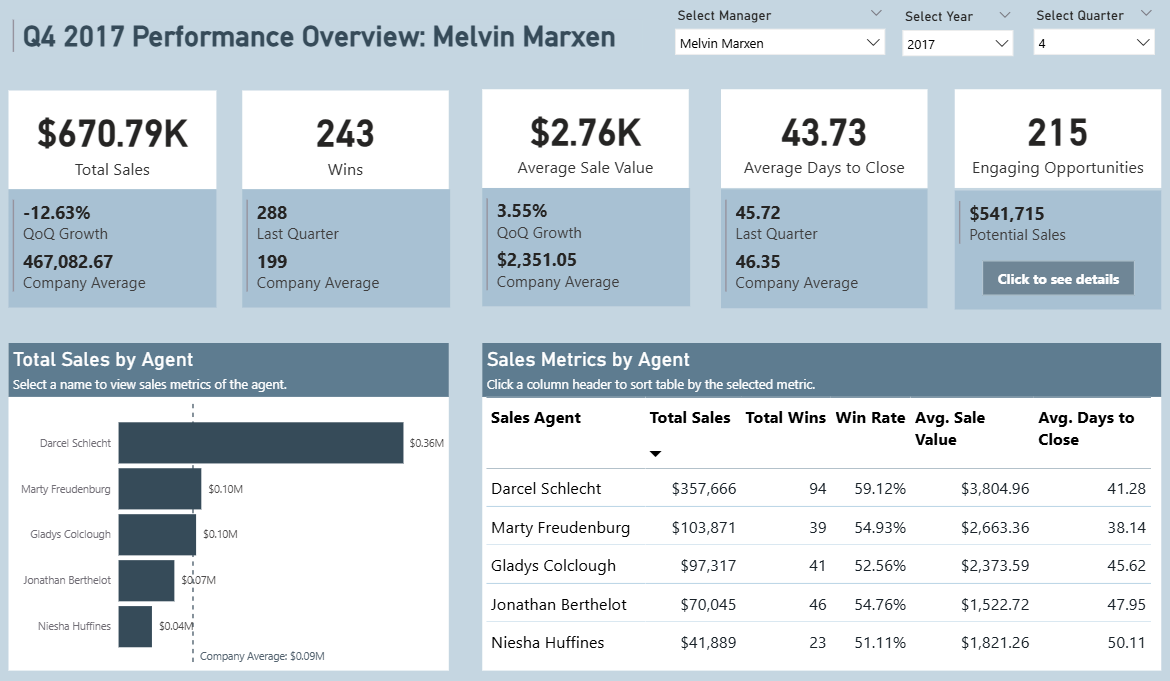

This screenshot's page, from the dashboard's own definition file:
{"tool":"powerbi","page":{"name":"Performance Overview","canvas":[1350,800],"ordinal":0},"visuals":[{"type":"card","fields":{"Values":["sales_pipeline.close_value"]},"box":[14.3,111.7,237.7,113],"z":0},{"type":"card","fields":{"Values":["sales_pipeline.opp_id"]},"box":[281.8,111.7,236.4,113],"z":1000},{"type":"card","fields":{"Values":["sales_pipeline.close_value"]},"box":[555.8,110.4,236.4,113],"z":2000},{"type":"slicer","fields":{"Values":["sales_agents.manager"]},"box":[765.7,11.4,260,74.3],"z":3000},{"type":"slicer","fields":{"Values":["calendar.year"]},"box":[1025.1,13.1,147.1,74.3],"z":4000},{"type":"slicer","fields":{"Values":["calendar.quarter"]},"box":[1175.1,11.7,158.6,75.7],"z":5000},{"type":"card","fields":{"Values":["sales_pipeline.Avg Days to Close"]},"box":[828.6,110.4,236.4,113],"z":6000},{"type":"card","fields":{"Values":["sales_pipeline.Engaging Opportunities"]},"box":[1096.1,110.4,236.4,113],"z":7000},{"type":"multiRowCard","fields":{"Values":["sales_pipeline.SalesLastQtr","sales_pipeline.Company Average Sale Amt"]},"box":[14.3,224.7,237.7,135.1],"z":8000},{"type":"multiRowCard","fields":{"Values":["sales_pipeline.Last Quarter Wins","sales_pipeline.Company Average Wins"]},"box":[281.8,224.7,237.7,135.1],"z":9000},{"type":"multiRowCard","fields":{"Values":["sales_pipeline.QoQ Avg Sale Growth","sales_pipeline.Company Average Sale Avg"]},"box":[555.8,223.4,237.7,135.1],"z":10000},{"type":"multiRowCard","fields":{"Values":["sales_pipeline.Avg Days to Close LQ","sales_pipeline.Company Avg Days to Close"]},"box":[828.6,224.3,235.7,135.7],"z":11000},{"type":"multiRowCard","fields":{"Values":["sales_pipeline.Potential Sales"]},"box":[1095.7,225.7,235.7,135.7],"z":12000},{"type":"clusteredBarChart","title":"Total Sales by Agent","fields":{"Category":["sales_pipeline.sales_agent"],"Y":["sales_pipeline.close_value"]},"box":[14.3,400,502.9,374.3],"z":13000},{"type":"pivotTable","title":"Sales Metrics by Agent","fields":{"Rows":["sales_pipeline.sales_agent"],"Values":["sales_pipeline.Total Sales","sales_pipeline.Total Wins","sales_pipeline.Win Rate","sales_pipeline.Avg Sale Value","sales_pipeline.Avg Days to Close"]},"box":[555.7,400,775.7,374.3],"z":14000},{"type":"multiRowCard","fields":{"Values":["sales_pipeline.Title_Metrics"]},"box":[14.3,25.7,730,50],"z":15000},{"type":"actionButton","box":[1127.1,305.7,174.3,40],"z":16000}]}

Visuals, with their boxes in screenshot pixels (x1, y1, x2, y2), scaled from the page's 1350x800 canvas onto the 1170x681 screenshot:
card - sales_pipeline.close_value: 12,95,218,191
card - sales_pipeline.opp_id: 244,95,449,191
card - sales_pipeline.close_value: 482,94,687,190
slicer - sales_agents.manager: 664,10,889,73
slicer - calendar.year: 888,11,1016,74
slicer - calendar.quarter: 1018,10,1156,74
card - sales_pipeline.Avg Days to Close: 718,94,923,190
card - sales_pipeline.Engaging Opportunities: 950,94,1155,190
multiRowCard - sales_pipeline.SalesLastQtr x sales_pipeline.Company Average Sale Amt: 12,191,218,306
multiRowCard - sales_pipeline.Last Quarter Wins x sales_pipeline.Company Average Wins: 244,191,450,306
multiRowCard - sales_pipeline.QoQ Avg Sale Growth x sales_pipeline.Company Average Sale Avg: 482,190,688,305
multiRowCard - sales_pipeline.Avg Days to Close LQ x sales_pipeline.Company Avg Days to Close: 718,191,922,306
multiRowCard - sales_pipeline.Potential Sales: 950,192,1154,308
"Total Sales by Agent" clusteredBarChart: 12,340,448,659
"Sales Metrics by Agent" pivotTable: 482,340,1154,659
multiRowCard - sales_pipeline.Title_Metrics: 12,22,645,64
actionButton: 977,260,1128,294
